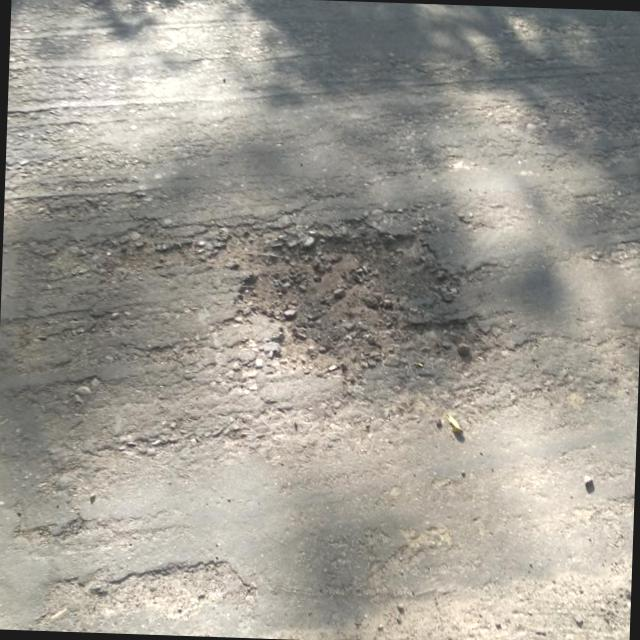Lubang: (224, 215, 477, 384), (88, 560, 253, 618)
